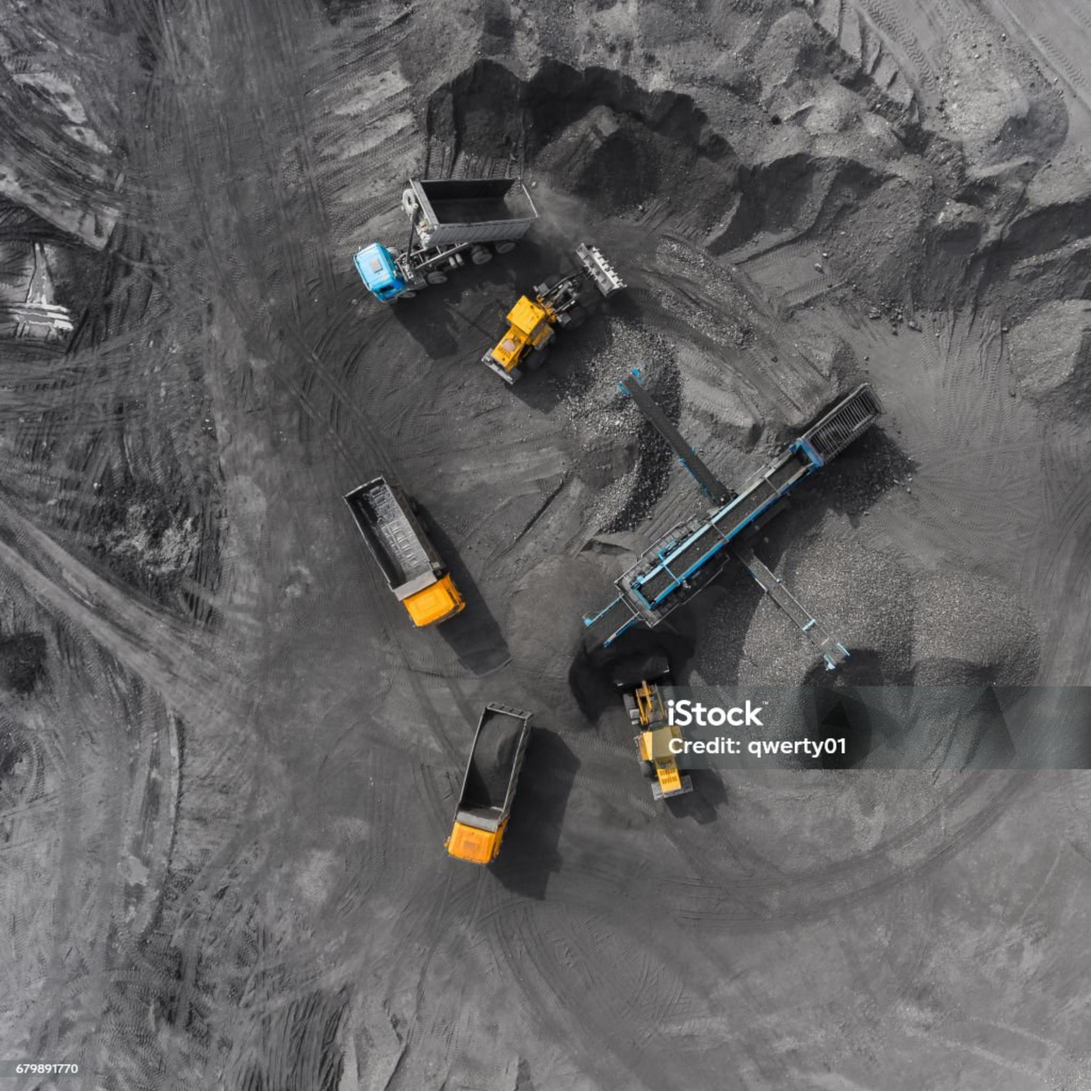excavator: (469, 235, 639, 392), (589, 631, 723, 810)
truck: (341, 154, 551, 306), (330, 463, 479, 642), (442, 708, 546, 876)
